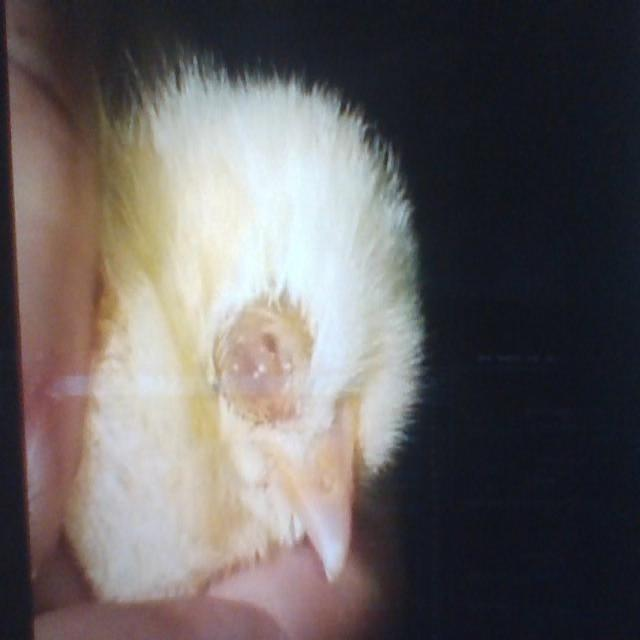Sick: (40, 65, 431, 620)
